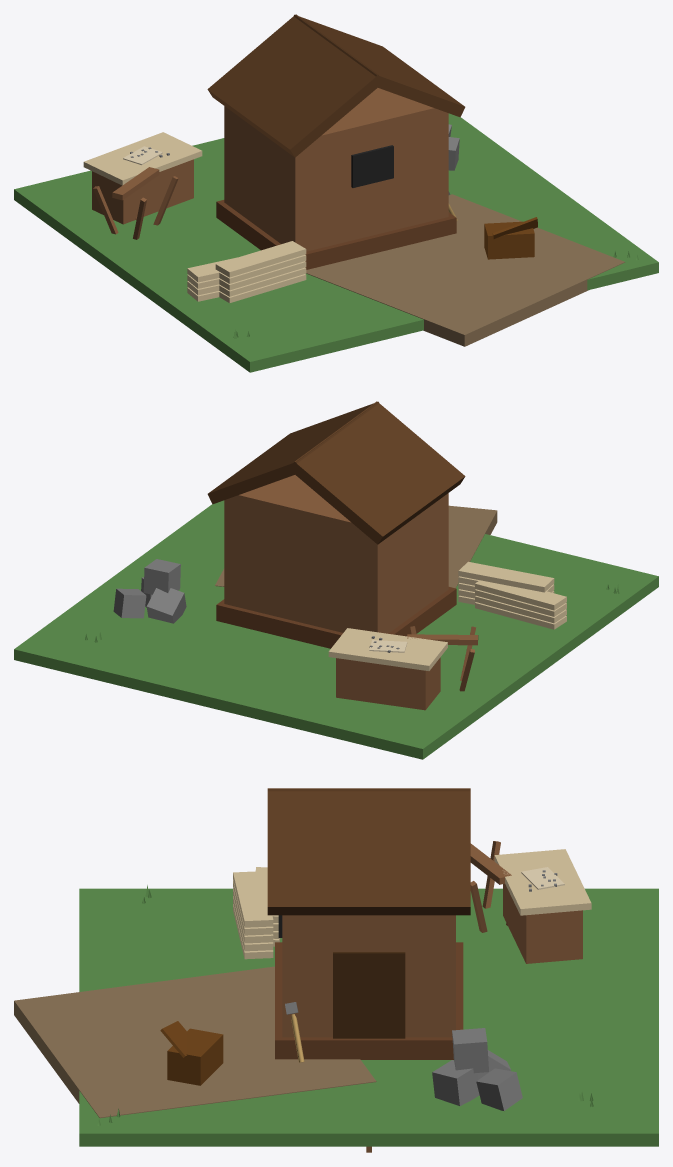
Rendered from builders_hut.glb.
3 views of the same model, one above another, from view 1: azimuth 30°, elevation 25°; view 2: azimuth 150°, elevation 25°; view 3: azimuth 270°, elevation 25° (orthographic). The views are drawn at different scales.
Visible parts, largest first — view 1: GrassBase, HutBody, DisturbedEarth, RoofLeft, HutFoundation, RoofRight, Plank (×5), WorkbenchBase, WorkbenchTop, Toolbox, WindowFront, Beam; view 2: GrassBase, HutBody, RoofLeft, Plank (×5), WorkbenchBase, RoofRight, HutFoundation, Stone (×3), WorkbenchTop, DisturbedEarth, Beam; view 3: GrassBase, DisturbedEarth, RoofRight, HutBody, Door, HutFoundation, Stone (×3), WorkbenchTop, WorkbenchBase, Toolbox, Plank, Beam (+3 smaller).
Boxes of the visible parts, bbox=[...] form: GrassBase: bbox=[14, 113, 658, 372]; HutBody: bbox=[224, 88, 448, 251]; DisturbedEarth: bbox=[306, 194, 625, 346]; RoofLeft: bbox=[207, 14, 383, 157]; HutFoundation: bbox=[216, 200, 456, 269]; RoofRight: bbox=[294, 14, 465, 117]; Plank (×5): bbox=[215, 241, 306, 303]; WorkbenchBase: bbox=[92, 159, 193, 224]; WorkbenchTop: bbox=[83, 132, 202, 185]; Toolbox: bbox=[484, 221, 534, 259]; WindowFront: bbox=[351, 145, 393, 187]; Beam: bbox=[112, 167, 159, 200]; GrassBase: bbox=[14, 500, 658, 759]; HutBody: bbox=[224, 475, 448, 633]; RoofLeft: bbox=[289, 401, 465, 544]; Plank (×5): bbox=[458, 561, 566, 629]; WorkbenchBase: bbox=[336, 657, 440, 710]; RoofRight: bbox=[207, 401, 378, 504]; HutFoundation: bbox=[216, 587, 456, 648]; Stone (×3): bbox=[113, 559, 186, 623]; WorkbenchTop: bbox=[328, 628, 447, 670]; DisturbedEarth: bbox=[215, 505, 497, 588]; Beam: bbox=[407, 634, 478, 645]; GrassBase: bbox=[79, 888, 658, 1146]; DisturbedEarth: bbox=[14, 966, 376, 1118]; RoofRight: bbox=[267, 788, 470, 915]; HutBody: bbox=[282, 915, 455, 1037]; Door: bbox=[333, 952, 405, 1038]; HutFoundation: bbox=[275, 942, 463, 1059]; Stone (×3): bbox=[432, 1028, 522, 1110]; WorkbenchTop: bbox=[494, 849, 591, 915]; WorkbenchBase: bbox=[503, 883, 582, 963]; Toolbox: bbox=[167, 1028, 223, 1085]; Plank: bbox=[233, 871, 273, 927]; Beam: bbox=[470, 843, 511, 884].
Bounding box in the file's own units: 4 × 2.69 × 4.45.
